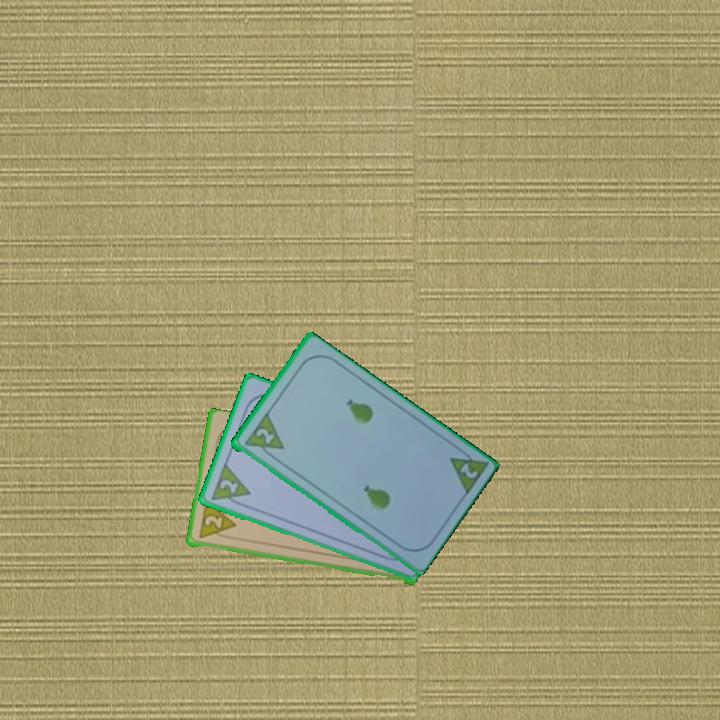2p: (240, 410, 287, 463), (445, 443, 489, 499), (207, 460, 253, 510), (195, 499, 238, 542)
